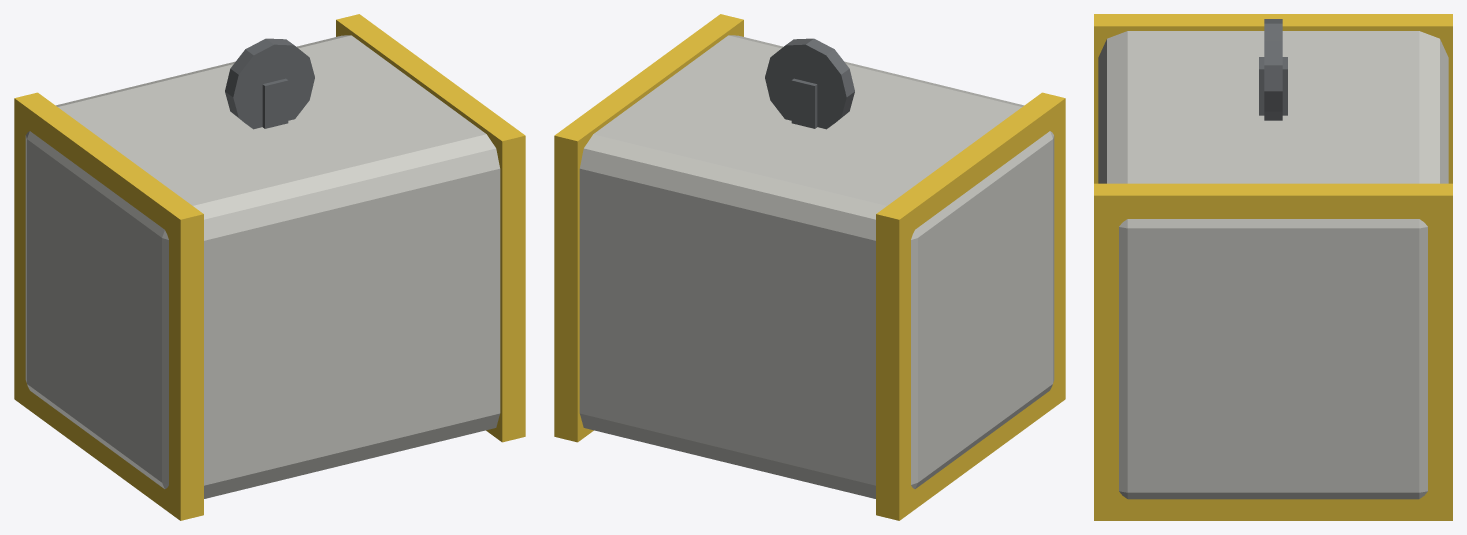
File: kit_hanging_crate.glb
3 views of the same model, side by side, from view 1: azimuth 30°, elevation 25°; view 2: azimuth 150°, elevation 25°; view 3: azimuth 270°, elevation 25° (orthographic). The views are drawn at different scales.
Visible parts, largest first — view 1: body.005, bands, ring, lug; view 2: body.005, bands, ring, lug; view 3: body.005, bands, ring, lug.
Boxes of the visible parts, left/top/right/bottom form: body.005: left=25, top=35, right=500, bottom=498; bands: left=14, top=14, right=525, bottom=520; ring: left=225, top=38, right=314, bottom=129; lug: left=262, top=78, right=288, bottom=128; body.005: left=579, top=35, right=1054, bottom=498; bands: left=554, top=14, right=1065, bottom=520; ring: left=765, top=38, right=854, bottom=129; lug: left=791, top=78, right=817, bottom=128; body.005: left=1098, top=31, right=1448, bottom=499; bands: left=1094, top=14, right=1452, bottom=520; ring: left=1264, top=19, right=1282, bottom=120; lug: left=1259, top=57, right=1287, bottom=115.
Size of the model in its own units: 1.2 by 1.23 by 0.984.
